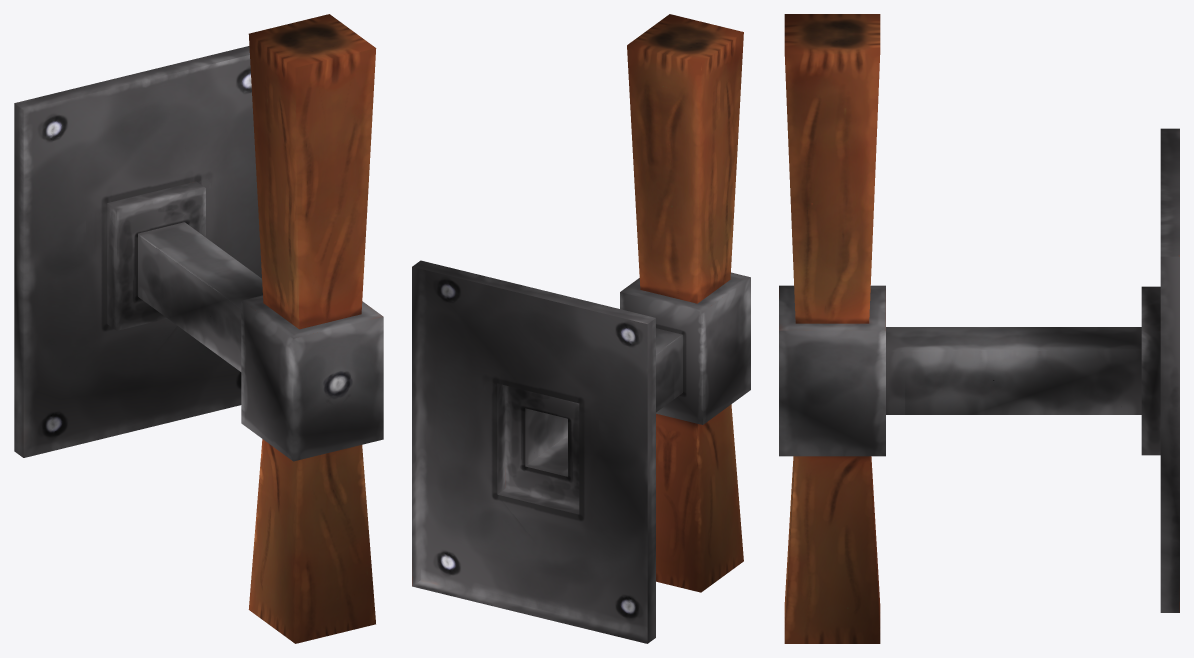
File: wall torch.fbx
3 renders of one model, left to right at view 1: azimuth 30°, elevation 25°; view 2: azimuth 150°, elevation 25°; view 3: azimuth 270°, elevation 25°, orthographic. The views are drawn at different scales.
Parts seen in each view (by area): view 1: Torch Type A.001; view 2: Torch Type A.001; view 3: Torch Type A.001.
Part boxes in pixels (box(x1,y1,x2,y2)): Torch Type A.001: box(14, 14, 383, 643); Torch Type A.001: box(412, 14, 750, 643); Torch Type A.001: box(779, 14, 1179, 643).
Size of the model in its own units: 25.7 by 55.2 by 34.01.
